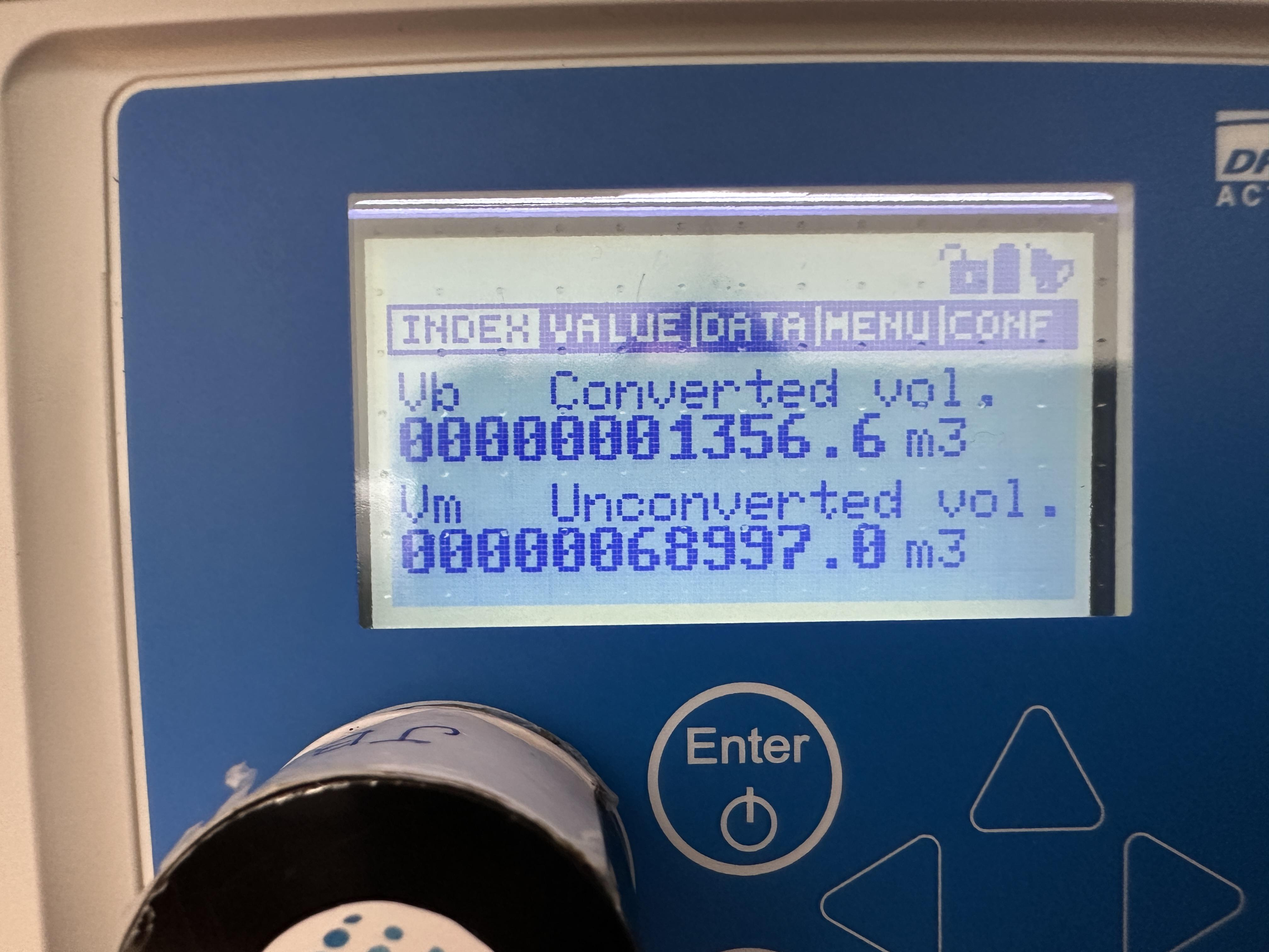digital_screen: (365, 233, 1096, 628)
